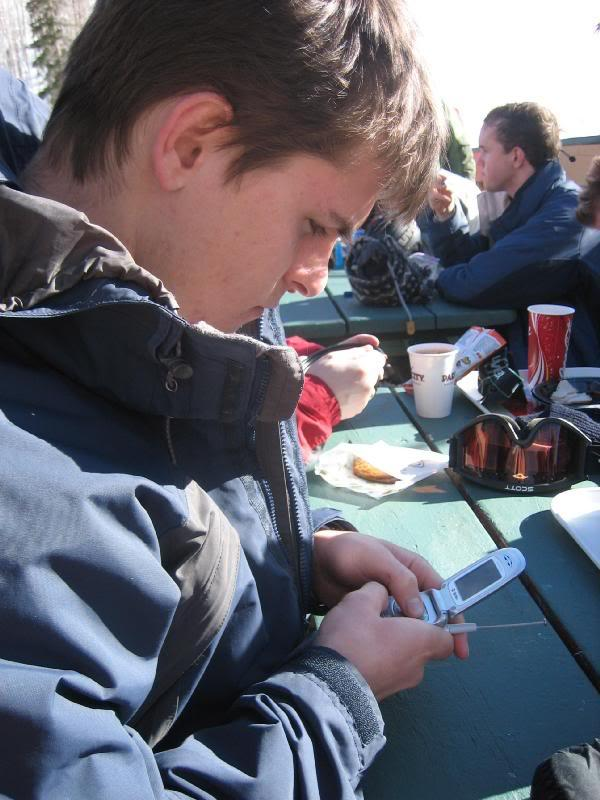person: (4, 4, 470, 797)
